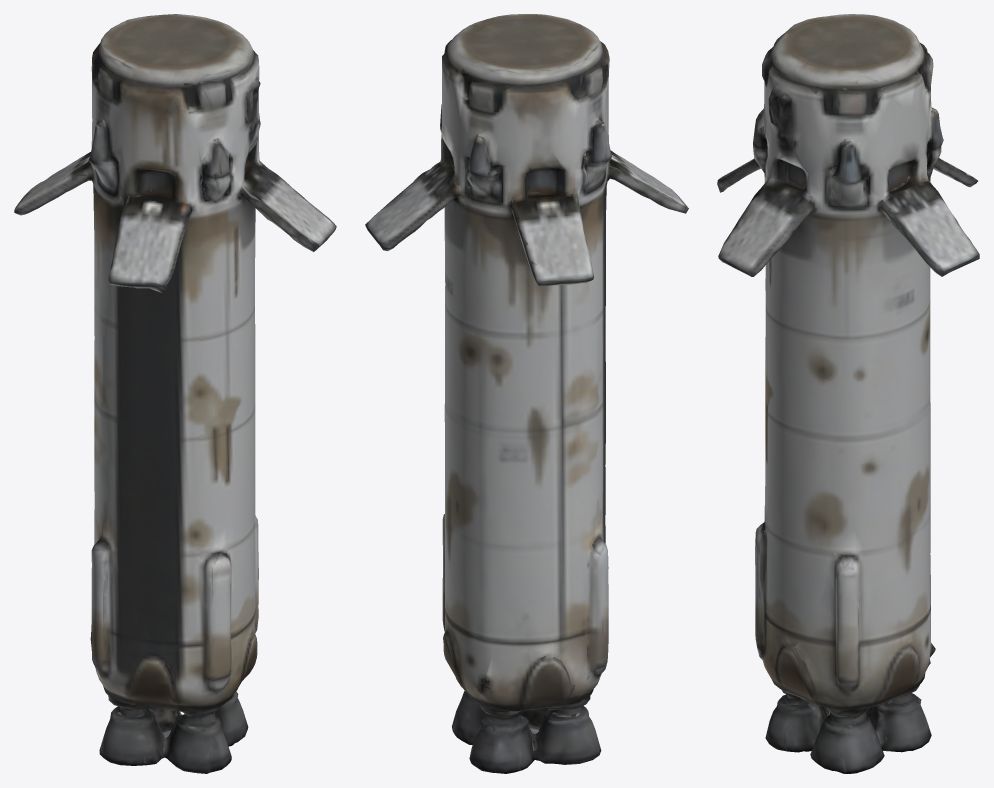
Rendered from falling_stage.glb.
3 renders of one model, left to right at view 1: azimuth 30°, elevation 25°; view 2: azimuth 150°, elevation 25°; view 3: azimuth 270°, elevation 25°, orthographic.
Visible parts, largest first — view 1: Mesh1.0; view 2: Mesh1.0; view 3: Mesh1.0.
Boxes of the visible parts, x1,y1,x2,y2 form: Mesh1.0: [14, 14, 336, 773]; Mesh1.0: [365, 14, 688, 773]; Mesh1.0: [717, 14, 979, 773].
Bounding box in the file's own units: 0.6822 × 2.01 × 0.6874.
Materials: 1 (1 with a texture image).
